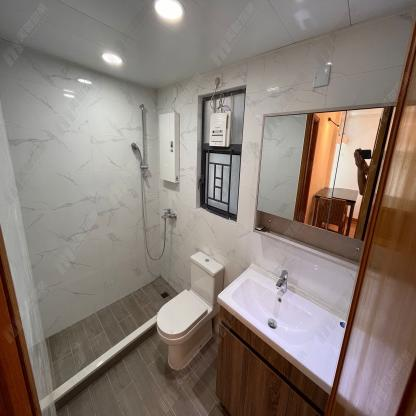Faucet: (275, 264, 289, 295)
Thermo Ventilator: (208, 110, 232, 148)
Toilet: (156, 250, 224, 369)
Toilet Sink: (217, 264, 348, 393)
Water Cubicle: (0, 43, 177, 410)
Water Heater: (158, 112, 179, 183)
